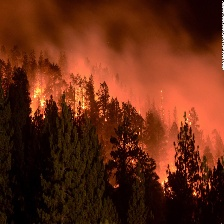fire: (28, 84, 50, 113), (73, 90, 87, 112)
smoke: (24, 9, 224, 102)
